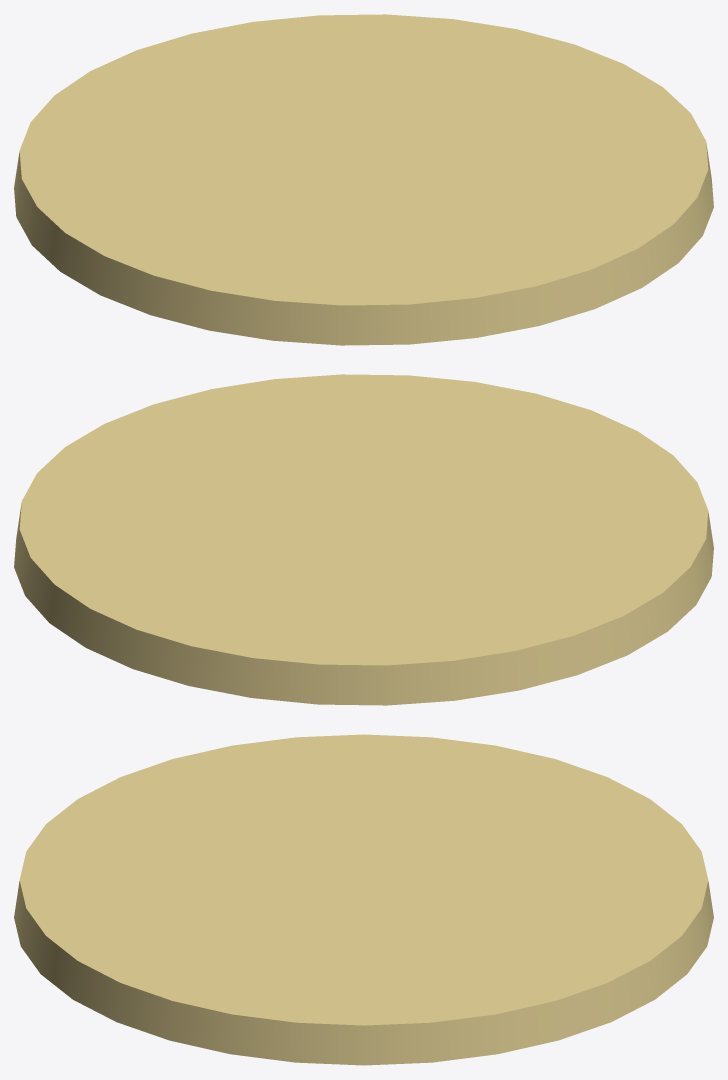
Rendered from Platform.fbx.
3 renders of one model, top to bottom at view 1: azimuth 30°, elevation 25°; view 2: azimuth 150°, elevation 25°; view 3: azimuth 270°, elevation 25°, orthographic.
Visible parts, largest first — view 1: Circle; view 2: Circle; view 3: Circle.
Boxes of the visible parts, x1=… form: Circle: x1=14, y1=14, x2=713, y2=345; Circle: x1=14, y1=374, x2=713, y2=705; Circle: x1=14, y1=734, x2=713, y2=1065.
Size of the model in its own units: 32.26 by 32.26 by 1.91.
